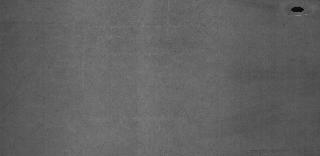punching hole: (290, 4, 306, 14)
silk spot: (110, 6, 200, 132), (5, 11, 79, 139)
